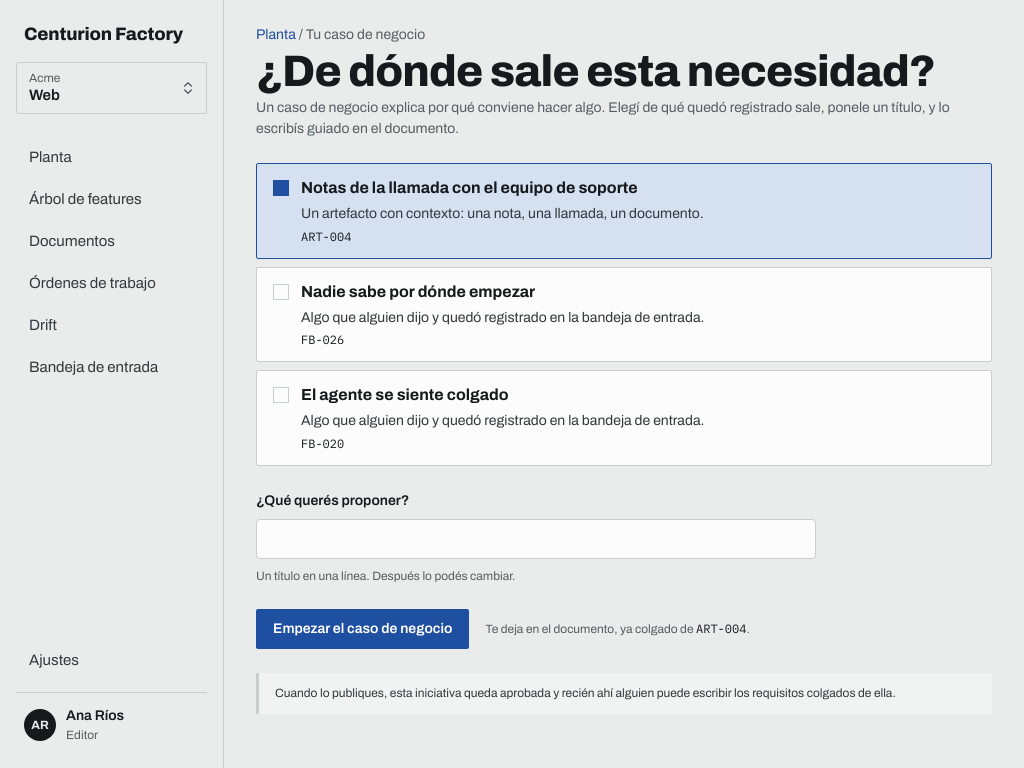
ConstruirNegocio — with records to start from (WO-562, SDD-053) › when creating fails it says so and keeps what was typed
In the field labelled "¿Qué querés proponer?": (536, 539) [256,519,816,559], type "Algo"
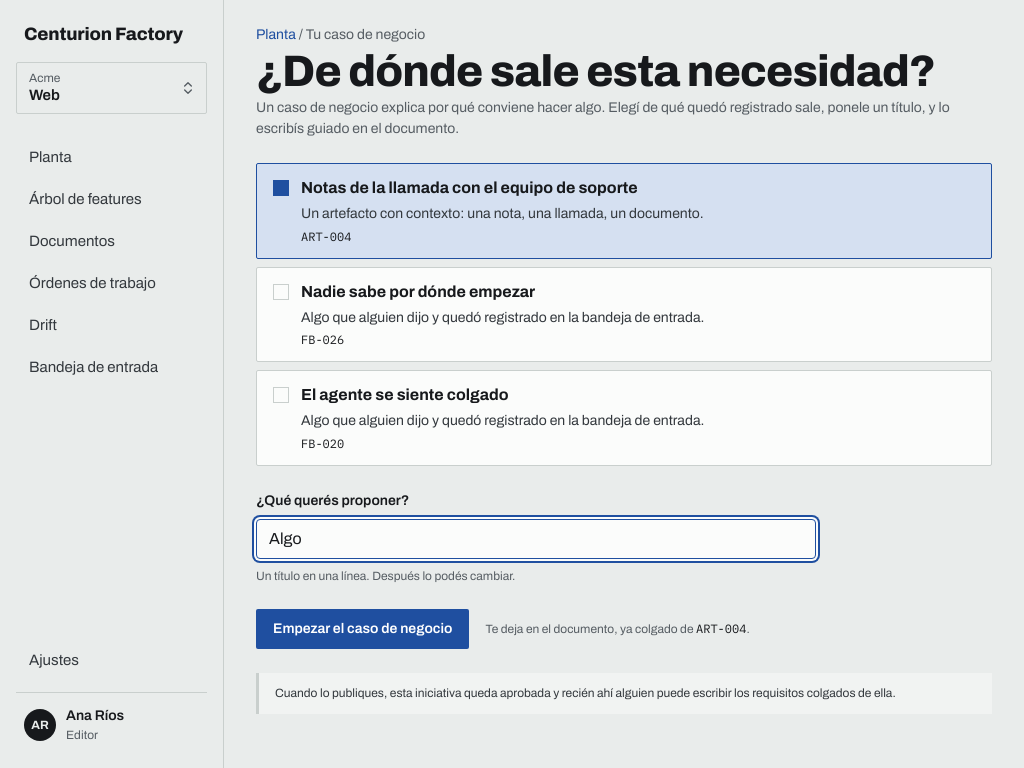
Click the button "Empezar el caso de negocio": (363, 629) [256,609,469,649]
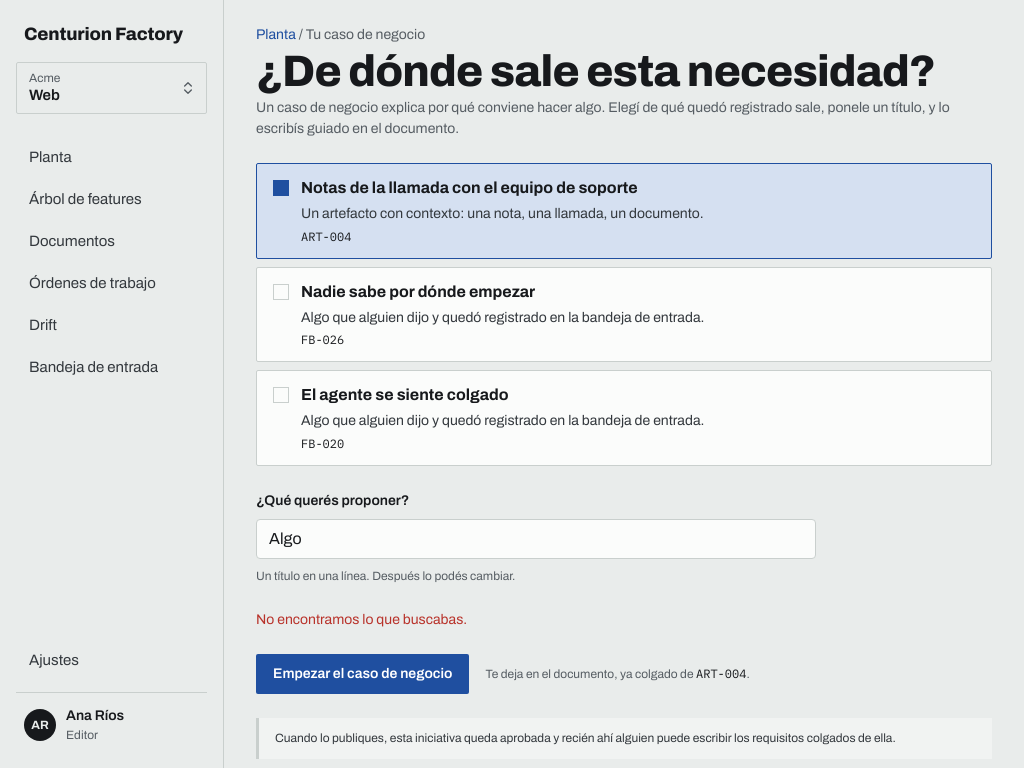
Expected: the message reads "No encontramos lo que buscabas.", [256,612,467,627]
